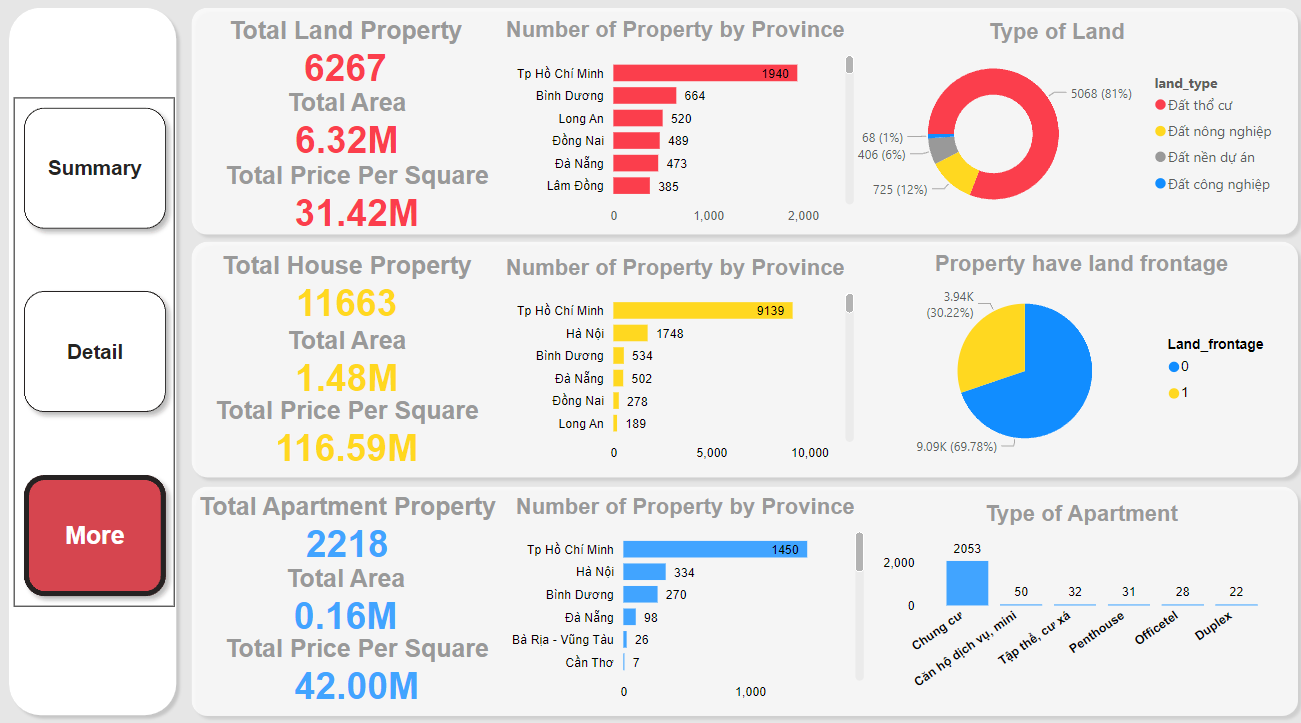

This screenshot's page, from the dashboard's own definition file:
{"tool":"powerbi","page":{"name":"More","canvas":[1280,720],"ordinal":2},"visuals":[{"type":"shape","box":[11.2,10,176.2,697.5],"z":0},{"type":"shape","box":[187.5,10,1082.5,233.8],"z":1000},{"type":"shape","box":[187.5,235,1082.5,242.5],"z":2000},{"type":"shape","box":[187.5,471.2,1082.5,236.2],"z":3000},{"type":"donutChart","title":"Type of Land","fields":{"Category":["gold_dimproperty.land_type"],"Y":["CountNonNull(gold_factprice.id)"]},"box":[807.5,27.5,442.5,198.8],"z":4000},{"type":"columnChart","title":"Type of Apartment","fields":{"Category":["gold_dimproperty.apartment_type"],"Y":["CountNonNull(gold_factprice.id)"]},"box":[856.2,493.8,393.8,198.8],"z":5000},{"type":"clusteredBarChart","title":"Number of Property by Province","fields":{"Category":["gold_dimlocation.province"],"Y":["CountNonNull(gold_factprice.id)"]},"box":[483.8,26.2,355,207.5],"z":6000},{"type":"clusteredBarChart","title":"Number of Property by Province","fields":{"Category":["gold_dimlocation.province"],"Y":["CountNonNull(gold_factprice.id)"]},"box":[483.8,256.2,355,207.5],"z":7000},{"type":"pieChart","title":"Property have land frontage","fields":{"Category":["gold_dimproperty.land_frontage"],"Y":["CountNonNull(gold_factprice.id)"]},"box":[856.2,252.5,393.8,207.5],"z":8000},{"type":"card","title":"Total Land Property","fields":{"Values":["CountNonNull(gold_factprice.id)"]},"box":[203.8,25,278.8,70],"z":9000},{"type":"card","title":"Total Area","fields":{"Values":["Sum(gold_factprice.area_m2)"]},"box":[205,95,278.8,70],"z":10000},{"type":"card","title":"Total Price Per Square","fields":{"Values":["Avg(gold_factprice.price_per_square)"]},"box":[215,165,278.8,70],"z":11000},{"type":"card","title":"Total House Property","fields":{"Values":["Count(gold_factprice.id)"]},"box":[205,252.5,278.8,70],"z":12000},{"type":"card","title":"Total Area","fields":{"Values":["Sum(gold_factprice.area_m2)"]},"box":[205,325,278.8,70],"z":13000},{"type":"card","title":"Total Price Per Square","fields":{"Values":["Avg(gold_factprice.price_per_square)"]},"box":[205,392.5,278.8,70],"z":14000},{"type":"card","title":"Total Apartment Property","fields":{"Values":["CountNonNull(gold_factprice.id)"]},"box":[192.5,485,303.8,70],"z":15000},{"type":"card","title":"Total Area","fields":{"Values":["Sum(gold_factprice.area_m2)"]},"box":[203.8,555,278.8,70],"z":16000},{"type":"card","title":"Total Price Per Square","fields":{"Values":["Avg(gold_factprice.price_per_square)"]},"box":[215,622.5,278.8,70],"z":17000},{"type":"clusteredBarChart","title":"Number of Property by Province","fields":{"Category":["gold_dimlocation.province"],"Y":["CountNonNull(gold_factprice.id)"]},"box":[493.8,486.2,355,207.5],"z":18000},{"type":"pageNavigator","box":[22.9,103.7,155.6,490.9],"z":18001}]}

Visuals, with their boxes in screenshot pixels (x1, y1, x2, y2), scaled from the page's 1280x720 canvas onto the 1301x723 screenshot:
shape: rect(11, 10, 190, 710)
shape: rect(191, 10, 1291, 245)
shape: rect(191, 236, 1291, 479)
shape: rect(191, 473, 1291, 710)
"Type of Land" donutChart: rect(821, 28, 1271, 227)
"Type of Apartment" columnChart: rect(870, 496, 1271, 695)
"Number of Property by Province" clusteredBarChart: rect(492, 26, 853, 235)
"Number of Property by Province" clusteredBarChart: rect(492, 257, 853, 466)
"Property have land frontage" pieChart: rect(870, 254, 1271, 462)
"Total Land Property" card: rect(207, 25, 491, 95)
"Total Area" card: rect(208, 95, 492, 166)
"Total Price Per Square" card: rect(219, 166, 502, 236)
"Total House Property" card: rect(208, 254, 492, 324)
"Total Area" card: rect(208, 326, 492, 397)
"Total Price Per Square" card: rect(208, 394, 492, 464)
"Total Apartment Property" card: rect(196, 487, 504, 557)
"Total Area" card: rect(207, 557, 491, 628)
"Total Price Per Square" card: rect(219, 625, 502, 695)
"Number of Property by Province" clusteredBarChart: rect(502, 488, 863, 697)
pageNavigator: rect(23, 104, 181, 597)
